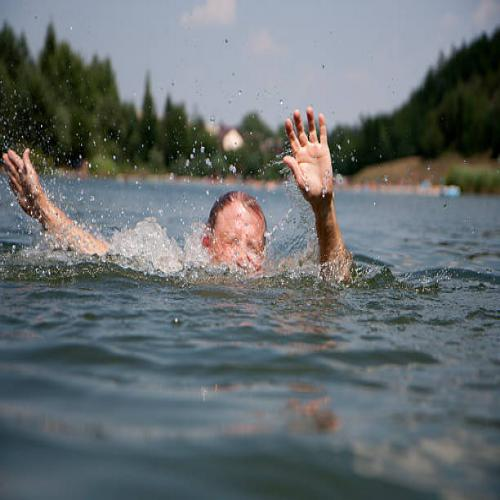drowning: (0, 94, 369, 291)
